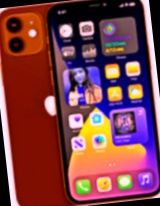iphone: (54, 1, 155, 204)
